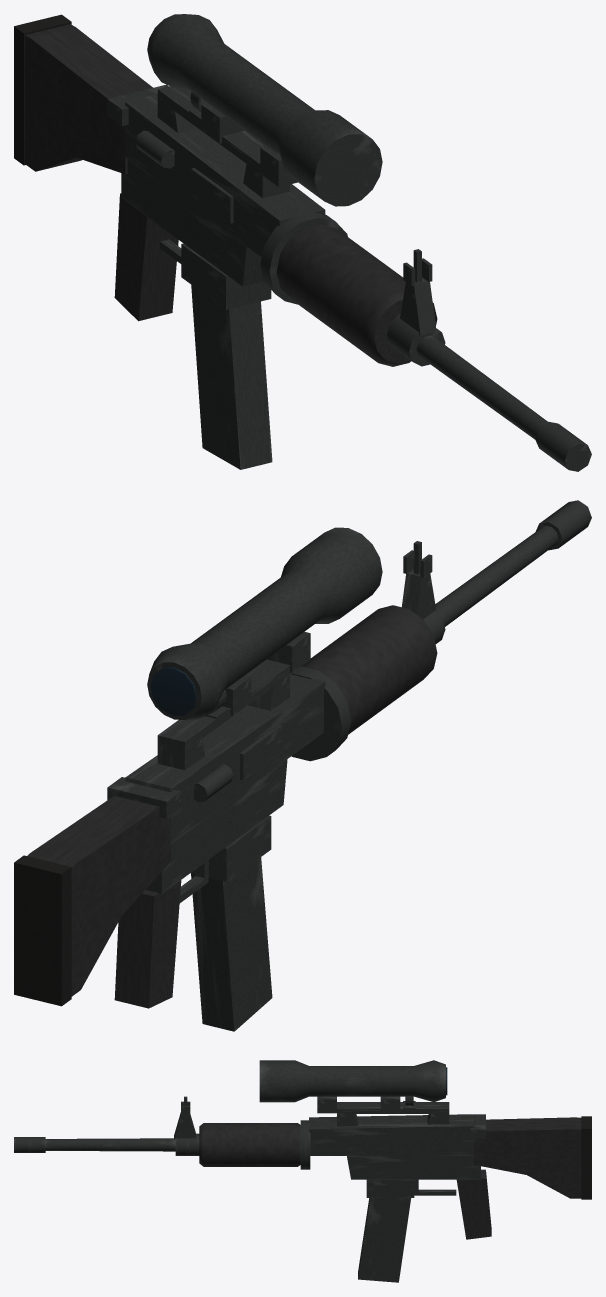
The model's file is weapon-m4s.glb.
3 views of the same model, one above another, from view 1: azimuth 30°, elevation 25°; view 2: azimuth 150°, elevation 25°; view 3: azimuth 270°, elevation 25° (orthographic). The views are drawn at different scales.
Visible parts, largest first — view 1: weapon-m4s, magazine; view 2: weapon-m4s, magazine; view 3: weapon-m4s, magazine.
Part boxes in pixels (left/top/right/bottom): weapon-m4s: left=14, top=14, right=591, bottom=471; magazine: left=191, top=285, right=272, bottom=469; weapon-m4s: left=14, top=500, right=591, bottom=1008; magazine: left=191, top=857, right=272, bottom=1031; weapon-m4s: left=14, top=1060, right=591, bottom=1239; magazine: left=358, top=1198, right=411, bottom=1282.
Bounding box in the file's own units: 0.072 × 0.34 × 0.823.
1 material, 1 textured.
